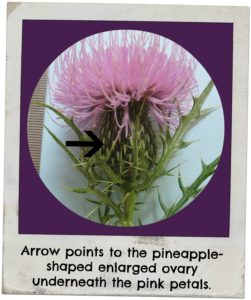thistle: (55, 38, 200, 180)
